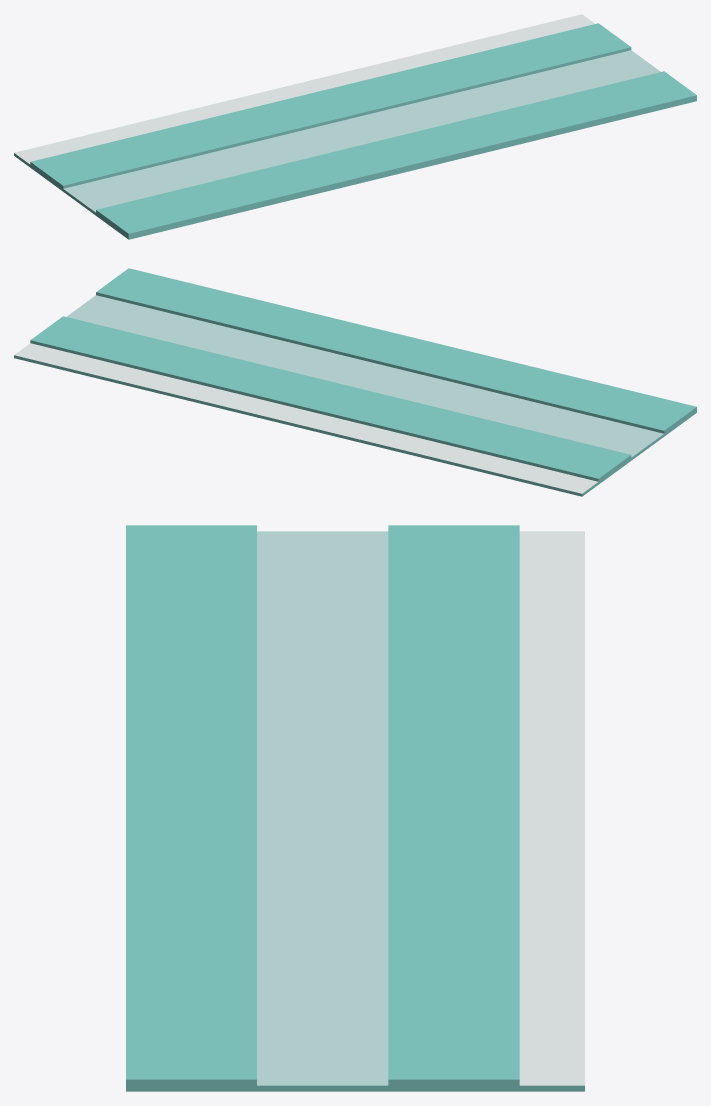
File: Prop_Rug_Side.glb
3 views of the same model, one above another, from view 1: azimuth 30°, elevation 25°; view 2: azimuth 150°, elevation 25°; view 3: azimuth 270°, elevation 25° (orthographic). The views are drawn at different scales.
Parts seen in each view (by area): view 1: Prop_Rug_Side; view 2: Prop_Rug_Side; view 3: Prop_Rug_Side.
Part boxes in pixels (x1,y1,x2,y2): Prop_Rug_Side: (14,14,696,239); Prop_Rug_Side: (14,268,696,496); Prop_Rug_Side: (126,525,584,1091).
Size of the model in its own units: 1 by 0.01 by 0.35.
